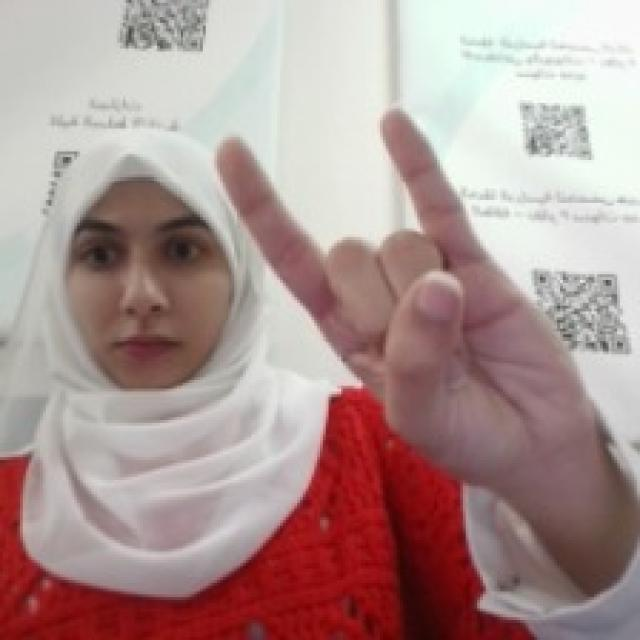No: (211, 94, 600, 477)
